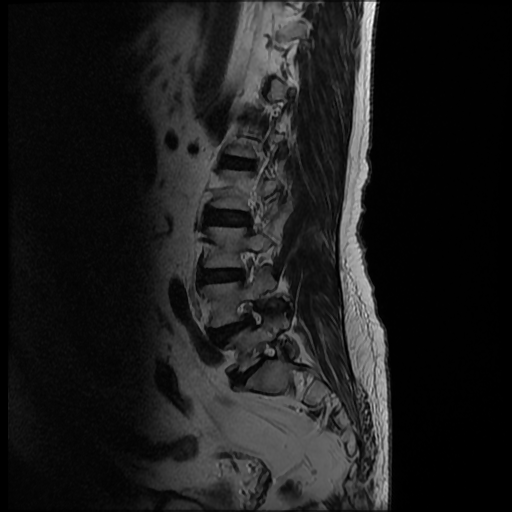LFS0: (228, 292, 271, 333), (228, 244, 263, 292), (245, 333, 282, 375)
